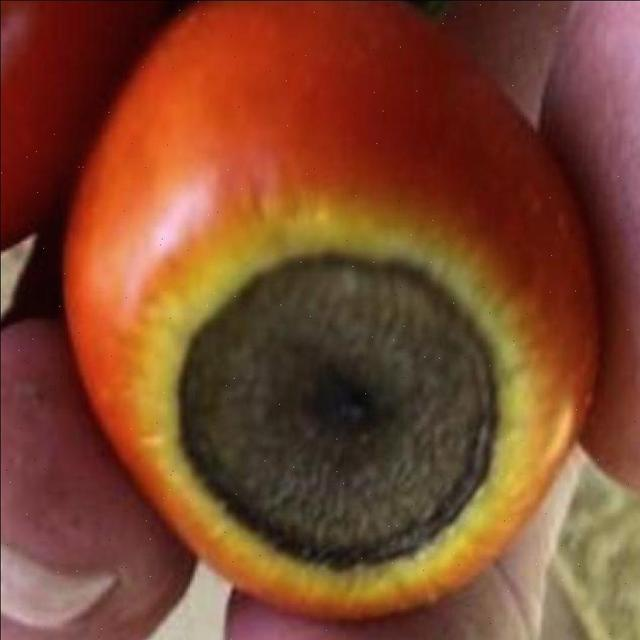Blossom End Rot Fruit: (114, 149, 345, 382)
